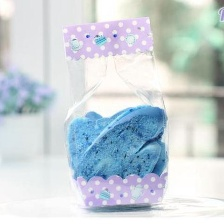snack: (52, 11, 177, 216)
